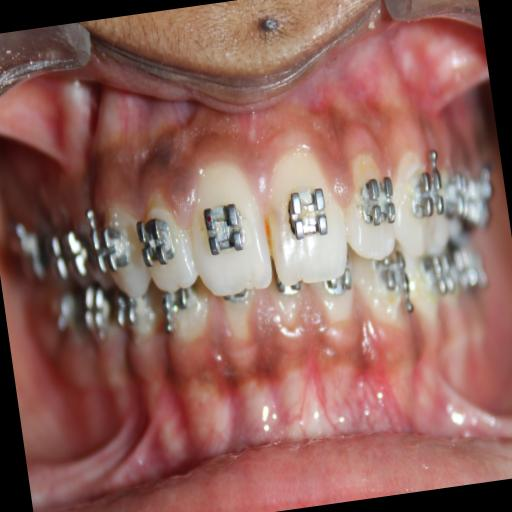correct_brace: (276, 176, 334, 246), (199, 191, 249, 258), (354, 165, 400, 231), (86, 213, 130, 279), (408, 162, 448, 225), (138, 217, 176, 266)
incorrect_brace: (338, 143, 404, 266), (139, 187, 202, 299)
